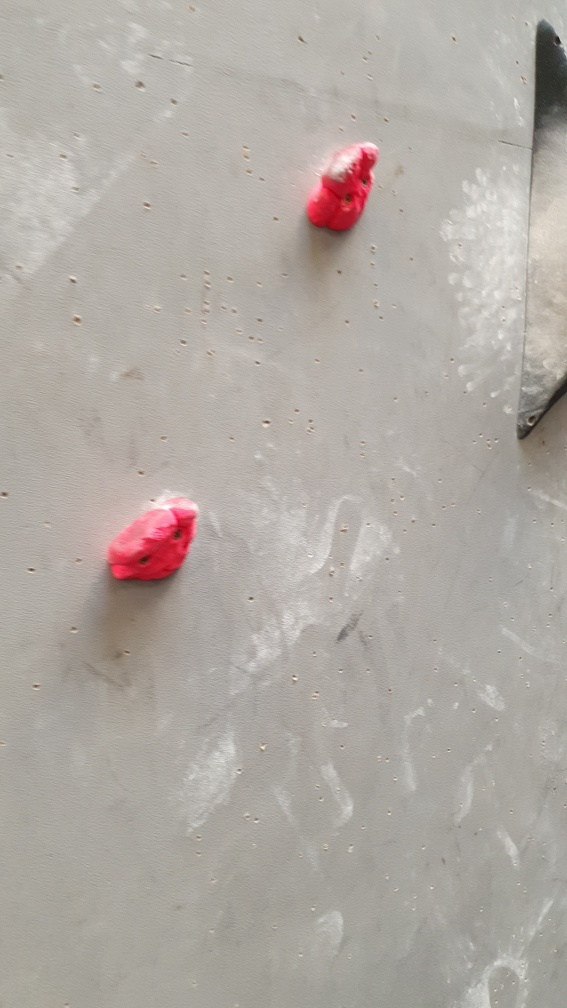Jug: (108, 491, 199, 586), (303, 137, 379, 237)
